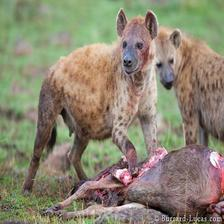hyena: (32, 11, 164, 184), (154, 23, 222, 155)
